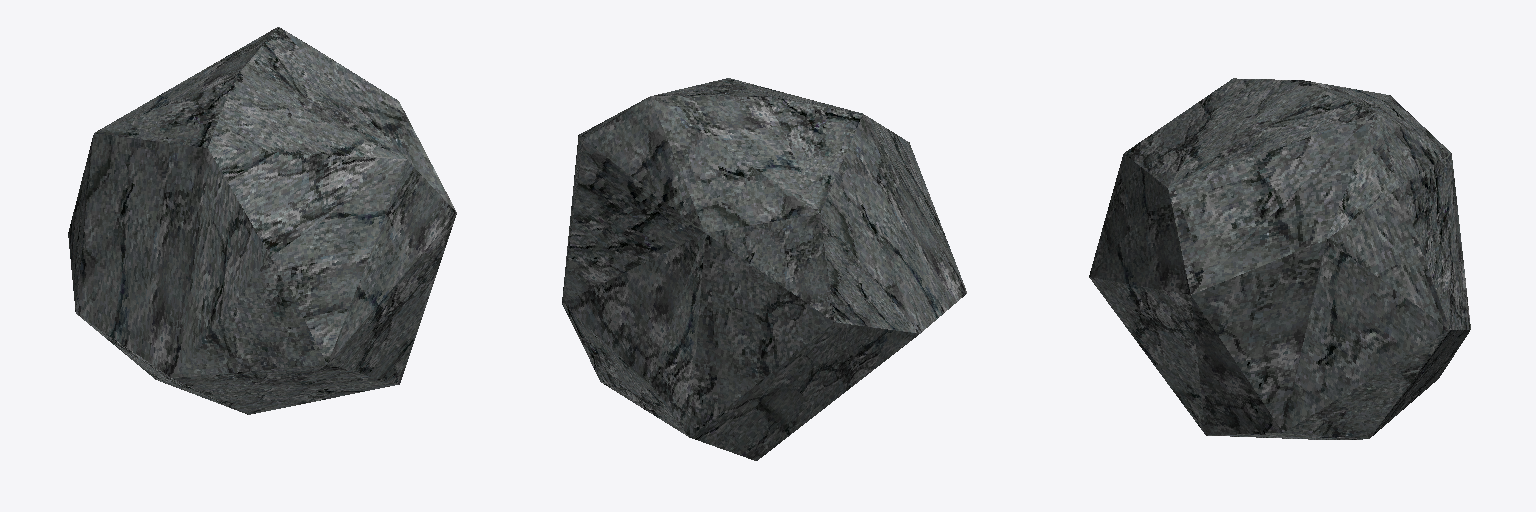
3 renders of one model, left to right at view 1: azimuth 30°, elevation 25°; view 2: azimuth 150°, elevation 25°; view 3: azimuth 270°, elevation 25°, orthographic.
Visible parts, largest first — view 1: Root; view 2: Root; view 3: Root.
Part boxes in pixels (bbox=[...]): Root: bbox=[68, 27, 456, 414]; Root: bbox=[562, 78, 966, 460]; Root: bbox=[1089, 78, 1470, 439].
Size of the model in its own units: 59.05 by 60.2 by 58.75.
Materials: 1 (1 with a texture image).